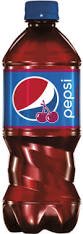bottle: (2, 3, 83, 231)
pepsi: (61, 77, 78, 123)
plastic: (2, 2, 82, 233)
